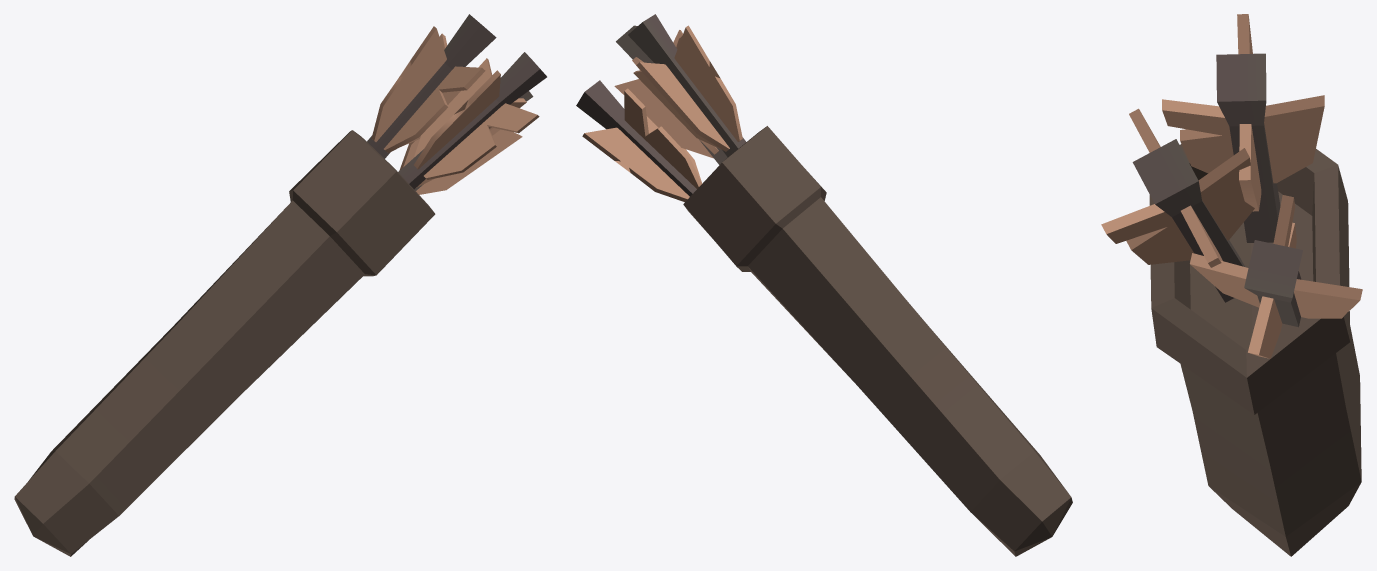
The model's file is banditQuiver01.fbx.
The picture shows the model from 3 angles, left to right: view 1: azimuth 30°, elevation 25°; view 2: azimuth 150°, elevation 25°; view 3: azimuth 270°, elevation 25°; orthographic projection. The views are drawn at different scales.
Parts seen in each view (by area): view 1: banditQuiver01; view 2: banditQuiver01; view 3: banditQuiver01.
Part boxes in pixels (box(x1,y1,x2,y2)): banditQuiver01: box(14, 14, 546, 556); banditQuiver01: box(576, 14, 1072, 556); banditQuiver01: box(1101, 14, 1362, 556).
Size of the model in its own units: 0.9539 by 0.8089 by 0.2194.
